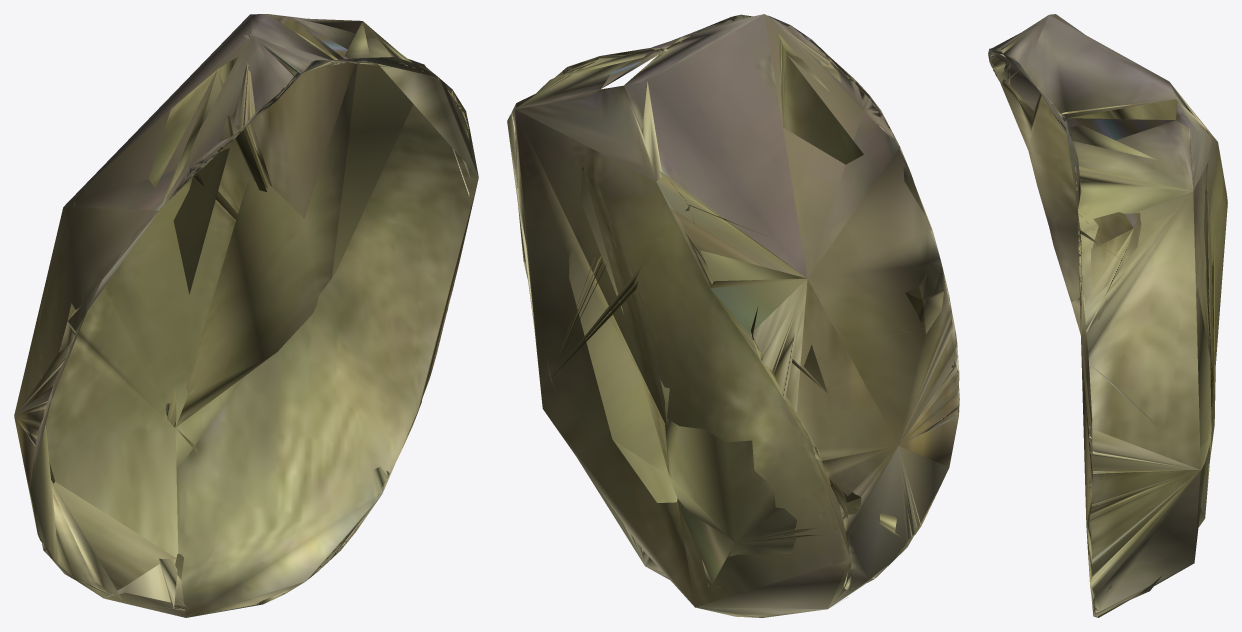
The model's file is quitina_escaravelho_zahar.glb.
The picture shows the model from 3 angles, left to right: view 1: azimuth 30°, elevation 25°; view 2: azimuth 150°, elevation 25°; view 3: azimuth 270°, elevation 25°; orthographic projection. The views are drawn at different scales.
Visible parts, largest first — view 1: geometry_0; view 2: geometry_0; view 3: geometry_0.
Boxes of the visible parts, x1=… form: geometry_0: x1=14, y1=14, x2=478, y2=617; geometry_0: x1=507, y1=14, x2=959, y2=617; geometry_0: x1=988, y1=14, x2=1227, y2=617.
Size of the model in its own units: 0.788 by 1 by 0.3712.
Materials: 1 (1 with a texture image).
